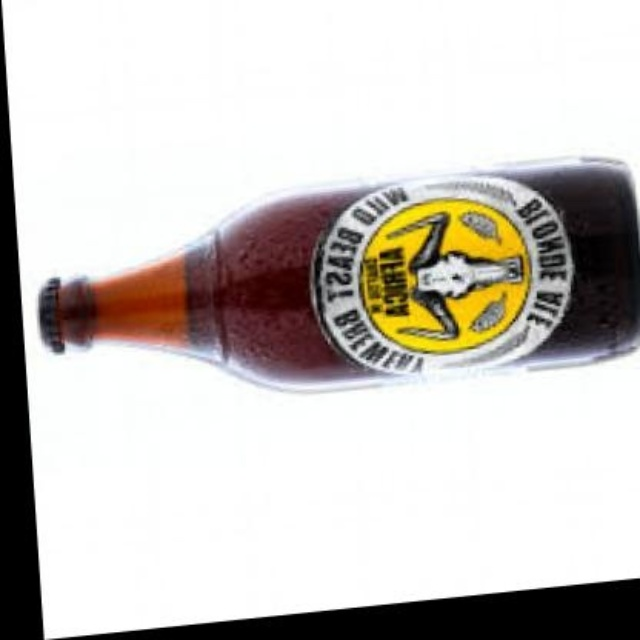trash: (38, 158, 638, 388)
